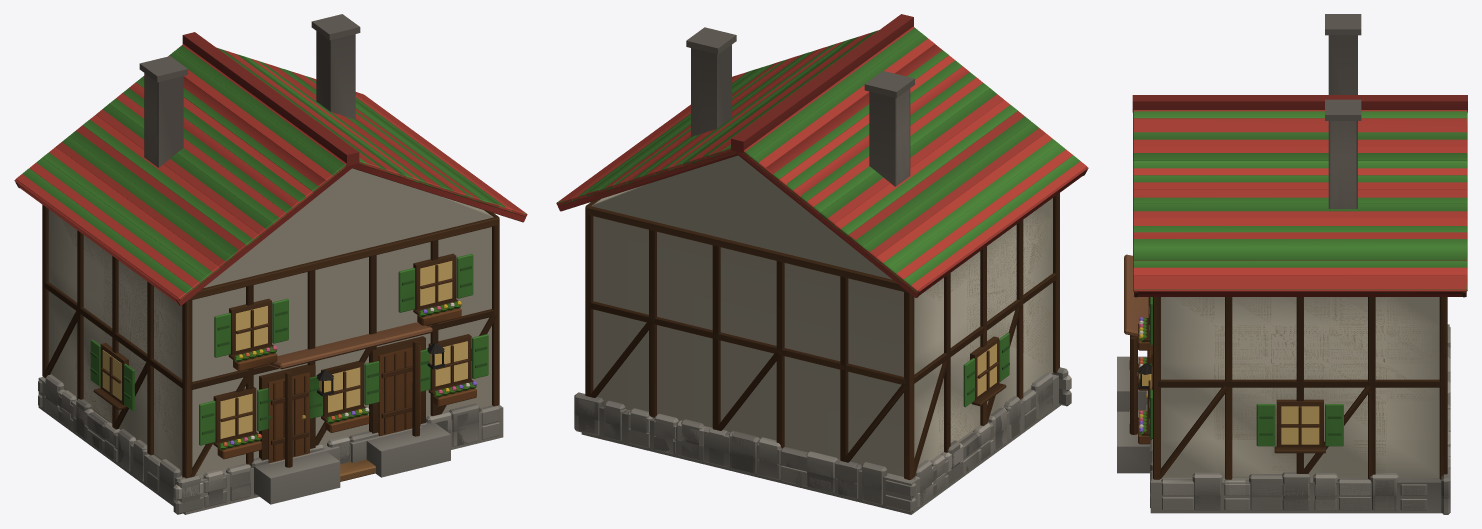
The model's file is houses-meadow.glb.
3 views of the same model, side by side, from view 1: azimuth 30°, elevation 25°; view 2: azimuth 150°, elevation 25°; view 3: azimuth 270°, elevation 25° (orthographic). The views are drawn at different scales.
Visible parts, largest first — view 1: house_meadow_l0, house_meadow_l1, house_meadow_l0__lod, house_meadow_l0__glow, house_meadow_l1__lod, house_meadow_s0; view 2: house_meadow_l0, house_meadow_l0__lod, house_meadow_l1, house_meadow_l1__lod, house_meadow_l0__glow; view 3: house_meadow_l0, house_meadow_l1, house_meadow_l0__lod, house_meadow_l1__lod, house_meadow_s0, house_meadow_l0__glow.
Part boxes in pixels (<box>): house_meadow_l0: <box>15,14,525,514</box>; house_meadow_l1: <box>19,45,525,513</box>; house_meadow_l0__lod: <box>14,14,527,514</box>; house_meadow_l0__glow: <box>102,261,467,438</box>; house_meadow_l1__lod: <box>139,56,450,477</box>; house_meadow_s0: <box>268,322,432,481</box>; house_meadow_l0: <box>558,26,1087,512</box>; house_meadow_l0__lod: <box>556,14,1088,514</box>; house_meadow_l1: <box>557,28,1085,505</box>; house_meadow_l1__lod: <box>864,71,914,186</box>; house_meadow_l0__glow: <box>977,343,996,396</box>; house_meadow_l0: <box>1118,100,1467,510</box>; house_meadow_l1: <box>1118,14,1467,514</box>; house_meadow_l0__lod: <box>1117,95,1467,513</box>; house_meadow_l1__lod: <box>1117,14,1361,473</box>; house_meadow_s0: <box>1124,254,1148,434</box>; house_meadow_l0__glow: <box>1150,374,1319,444</box>.
Bounding box in the file's own units: 9.8 × 9.69 × 8.33.
